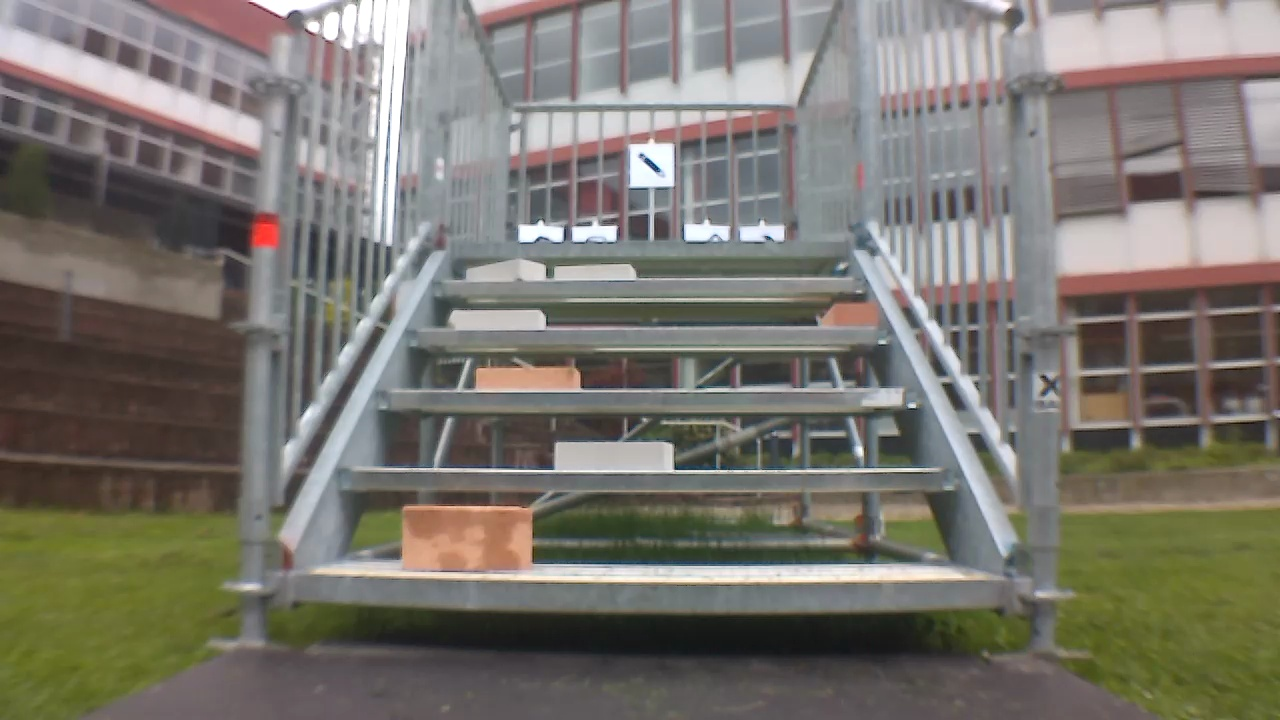brick: (396, 506, 536, 571), (554, 439, 681, 472), (472, 365, 579, 392), (444, 307, 548, 334), (464, 257, 544, 280), (549, 263, 636, 280), (819, 304, 875, 326)
edge: (289, 576, 1014, 603), (331, 471, 957, 492), (375, 388, 920, 409), (423, 276, 868, 297), (401, 327, 891, 346), (450, 242, 850, 258)
pencil: (635, 152, 666, 179)
stairs: (242, 0, 1049, 658)
steps: (276, 239, 1020, 607)
